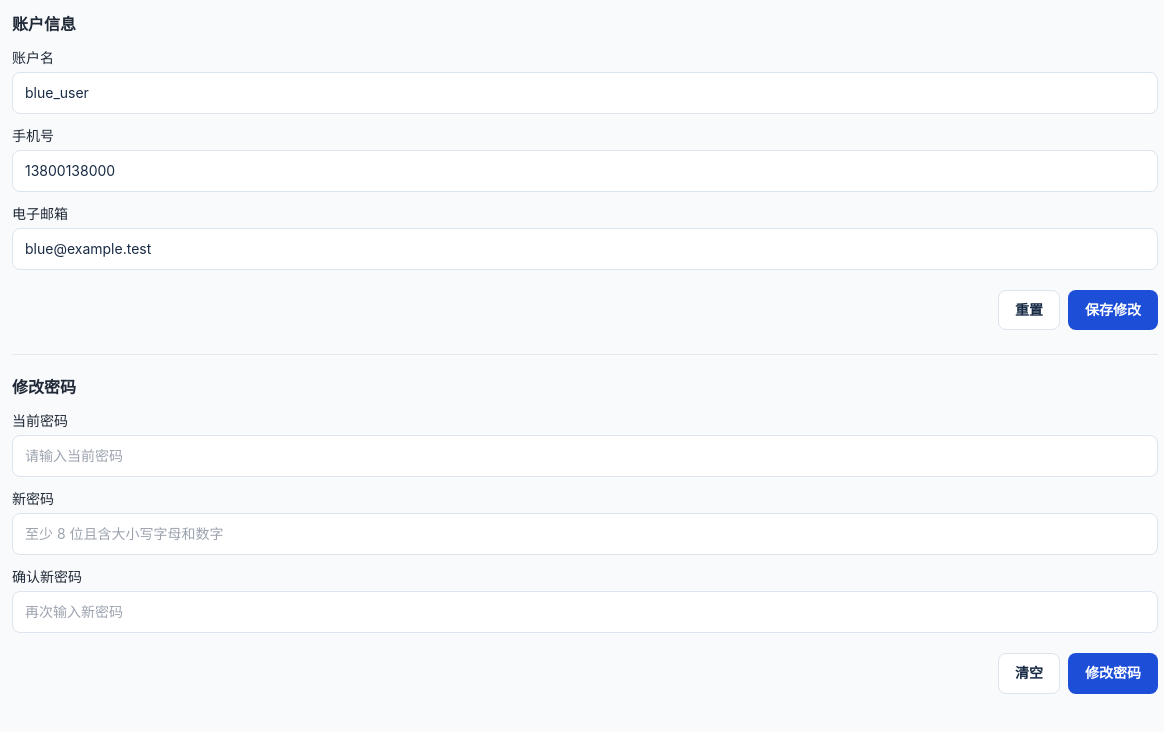
it: account form with the real API client and auth store › does not retry a PATCH after an unconfirmable response
Replace the text in the field with id "settings-account-username" with "server_may_have_written" at (585, 93), box [12,72,1158,114]
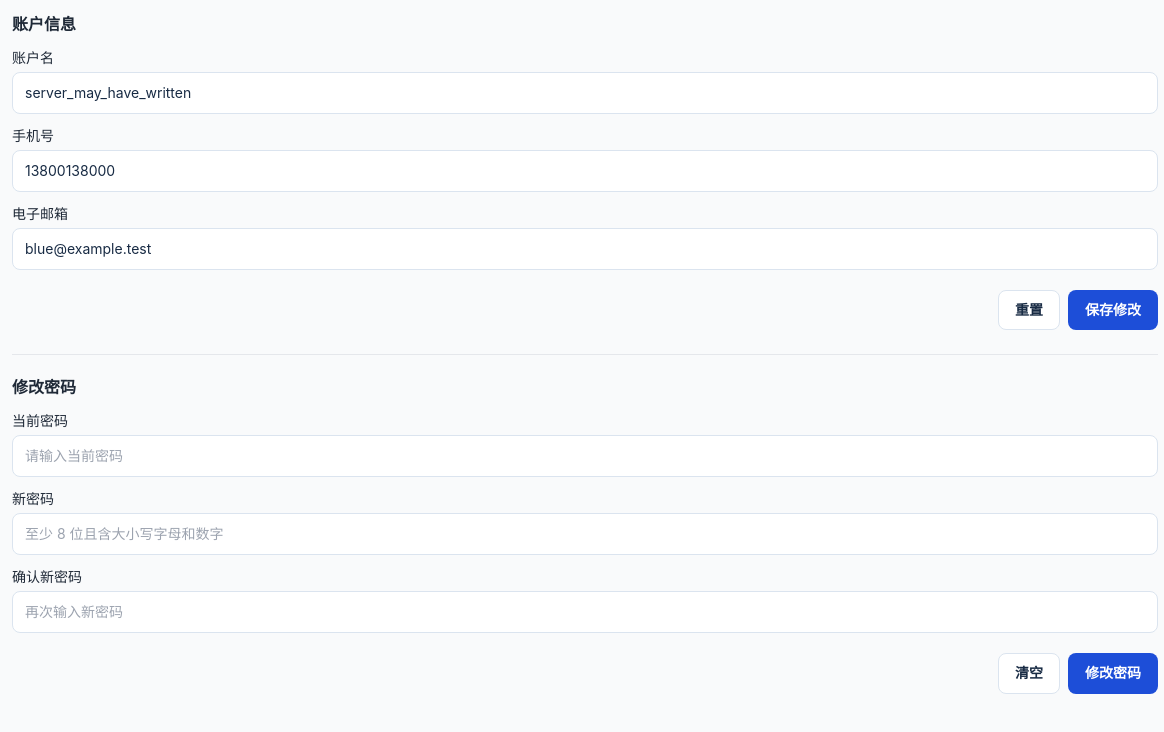
Click the button "保存修改" at (1113, 310), box [1068,290,1158,330]
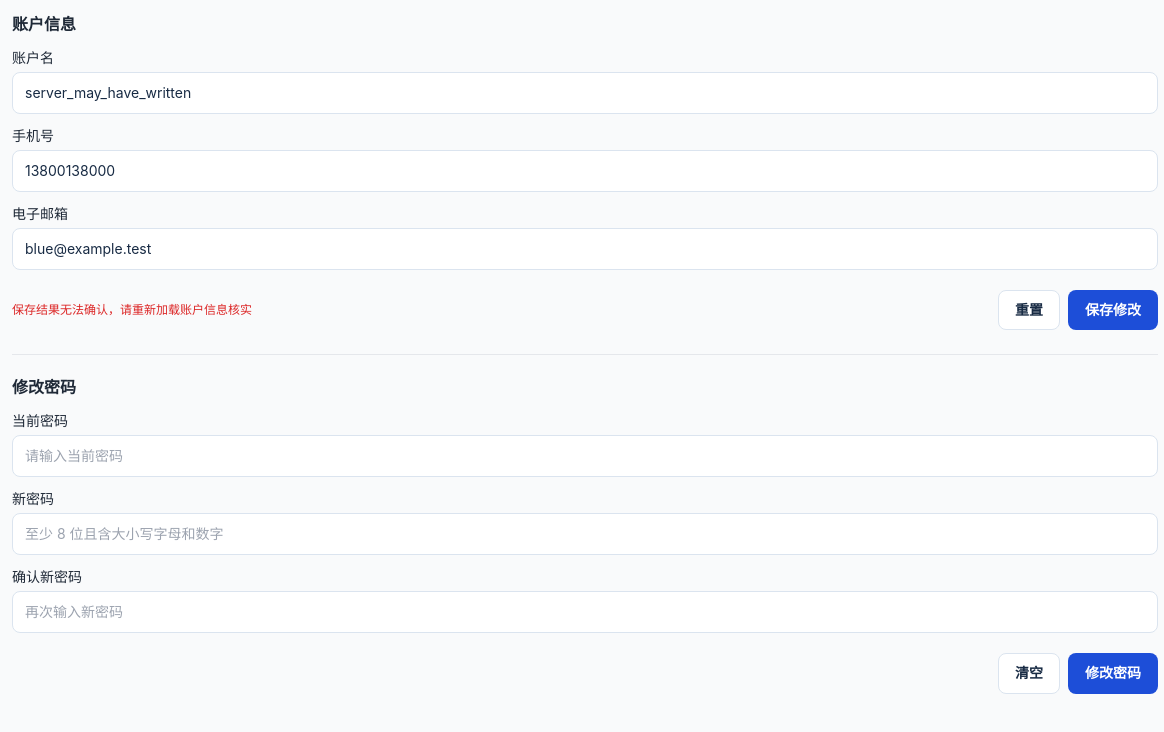
Now the text "保存结果无法确认，请重新加载账户信息核实" is shown, box [12,302,252,318]
